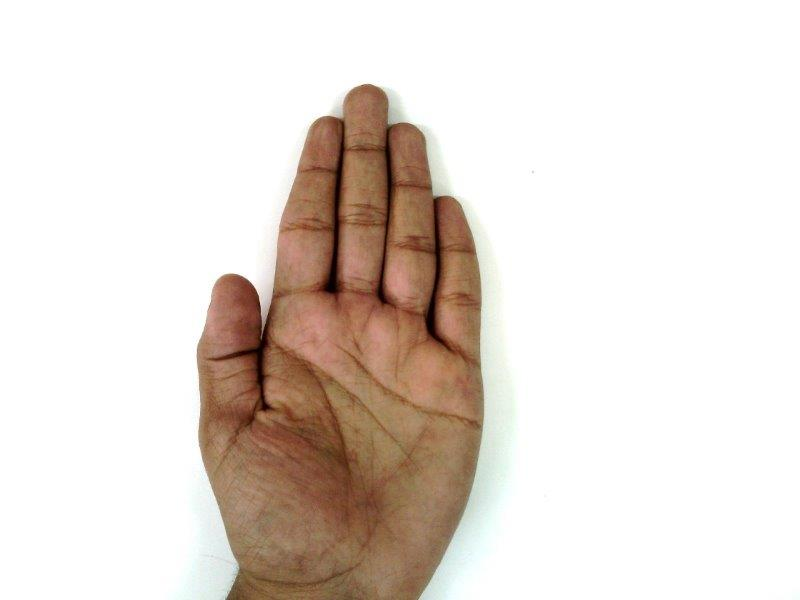hand: (196, 85, 486, 575)
